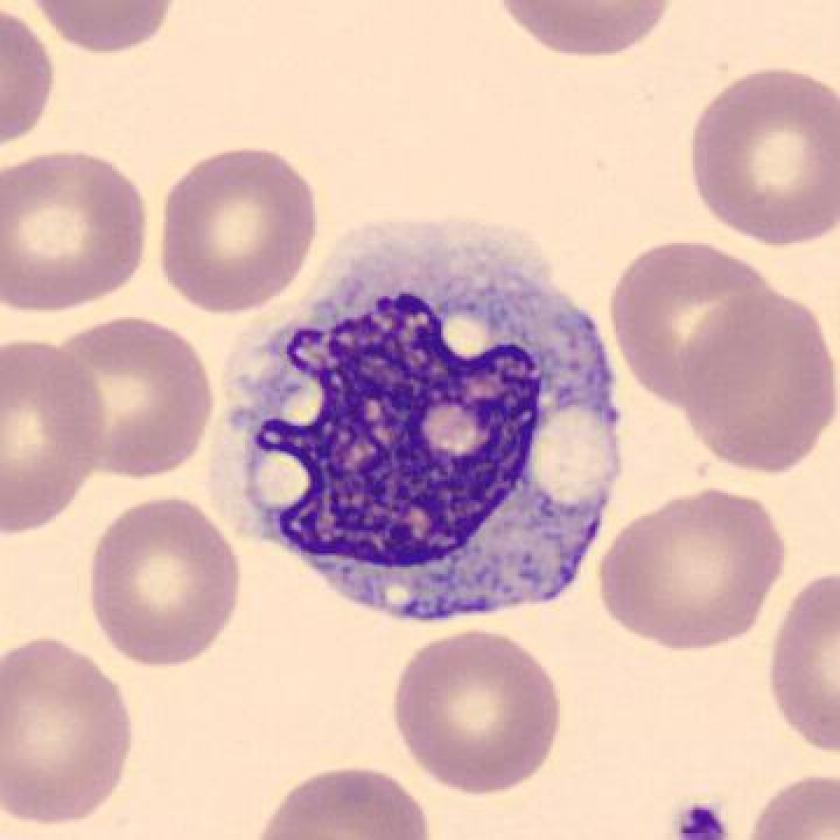monocyte: (190, 196, 643, 645)
